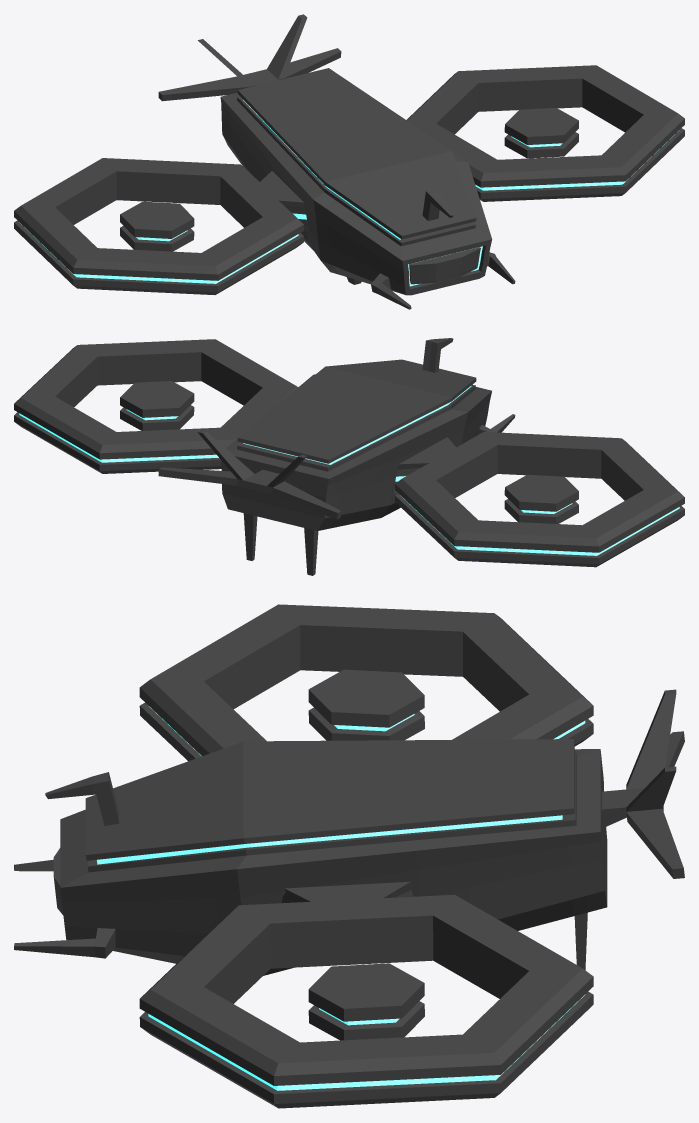
Rendered from drone.fbx.
3 views of the same model, one above another, from view 1: azimuth 30°, elevation 25°; view 2: azimuth 150°, elevation 25°; view 3: azimuth 270°, elevation 25° (orthographic). The views are drawn at different scales.
Parts seen in each view (by area): view 1: drone; view 2: drone; view 3: drone.
Part boxes in pixels (x1,y1,x2,y2): drone: [14, 14, 684, 309]; drone: [14, 338, 684, 575]; drone: [14, 604, 684, 1108].
Bounding box in the file's own units: 359 × 80.84 × 218.
